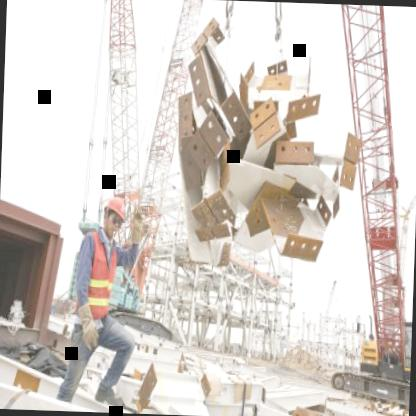helmet: (99, 191, 129, 238)
